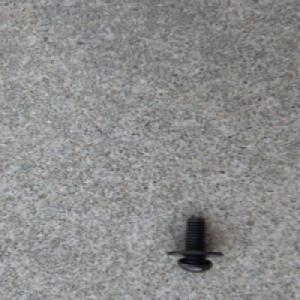BoltWasher: (164, 214, 226, 272)
